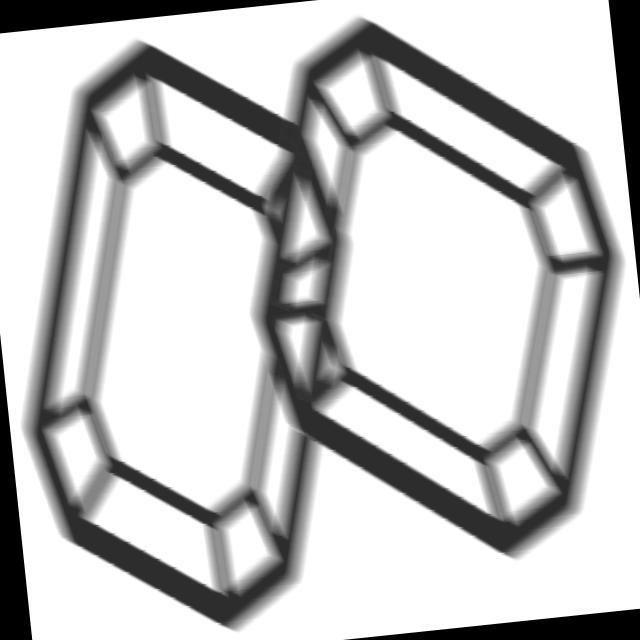emerald: (211, 1, 640, 596), (1, 15, 399, 640)
